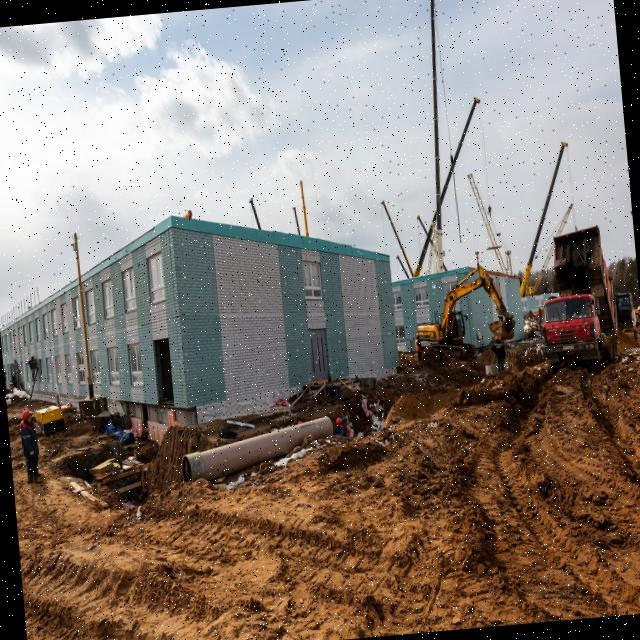Helmet: (22, 411, 32, 422), (336, 418, 344, 430), (188, 210, 194, 217), (416, 333, 421, 339), (496, 336, 501, 342), (32, 356, 35, 361)
Jacket: (415, 339, 422, 353)
NoJacket: (23, 419, 37, 457), (495, 341, 505, 362), (31, 360, 38, 372)
